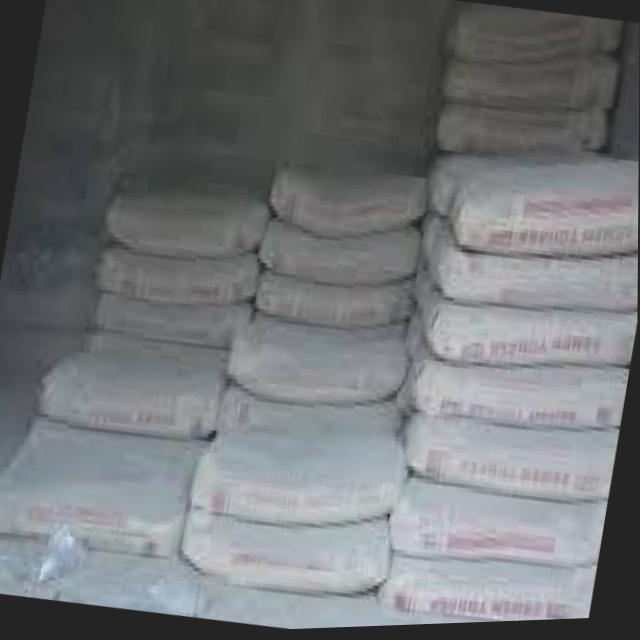cement_bag: (0, 418, 210, 539), (187, 515, 383, 598), (43, 345, 223, 435), (470, 164, 639, 248), (421, 430, 619, 499), (421, 371, 630, 435), (405, 501, 606, 562), (399, 563, 598, 624), (440, 316, 638, 370), (204, 460, 391, 514), (248, 324, 409, 382), (109, 198, 260, 258), (446, 263, 638, 305), (285, 180, 424, 236), (267, 230, 419, 281), (470, 15, 609, 70), (97, 301, 248, 351), (452, 112, 591, 162)
